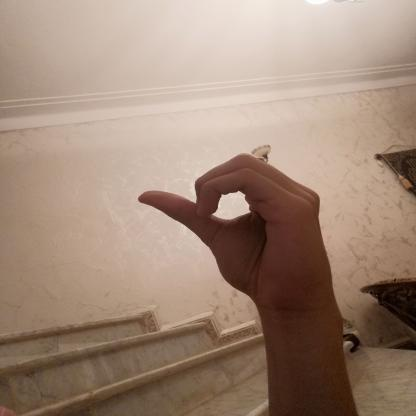WAW: (123, 144, 347, 320)
